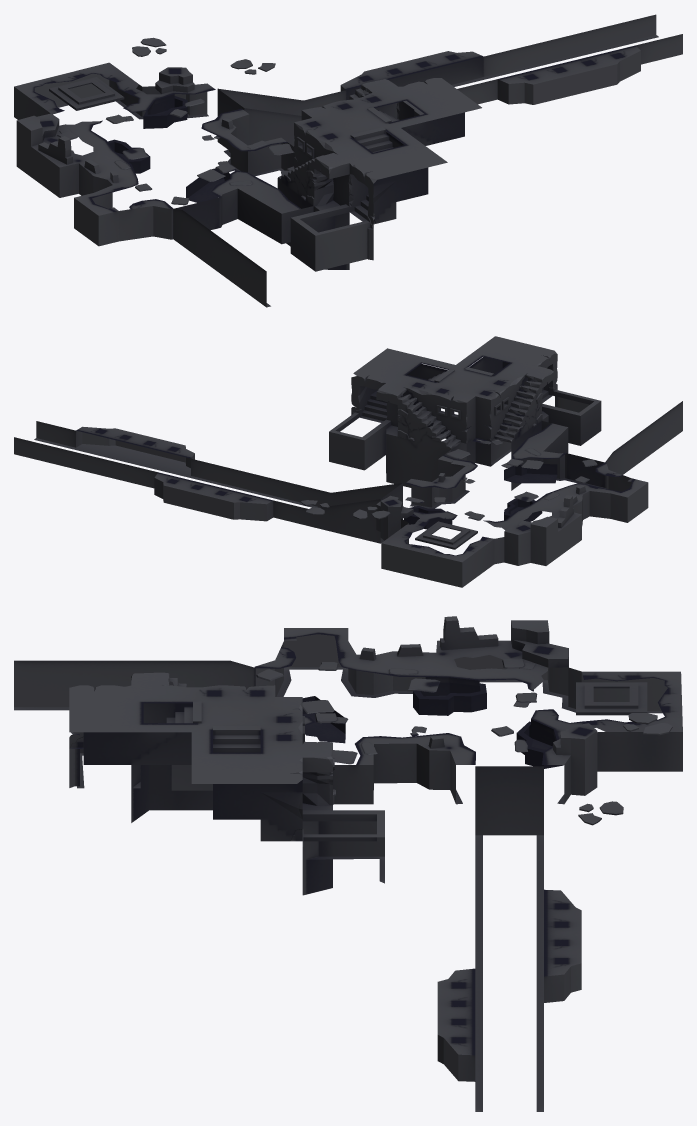
Rendered from Ground_01.FBX.
3 views of the same model, one above another, from view 1: azimuth 30°, elevation 25°; view 2: azimuth 150°, elevation 25°; view 3: azimuth 270°, elevation 25° (orthographic). The views are drawn at different scales.
Visible parts, largest first — view 1: Ground_01; view 2: Ground_01; view 3: Ground_01.
Part boxes in pixels (x1=…): Ground_01: x1=14, y1=14, x2=682, y2=307; Ground_01: x1=14, y1=336, x2=682, y2=587; Ground_01: x1=14, y1=616, x2=682, y2=1111.
Bounding box in the file's own units: 66.08 × 10.38 × 45.03.
